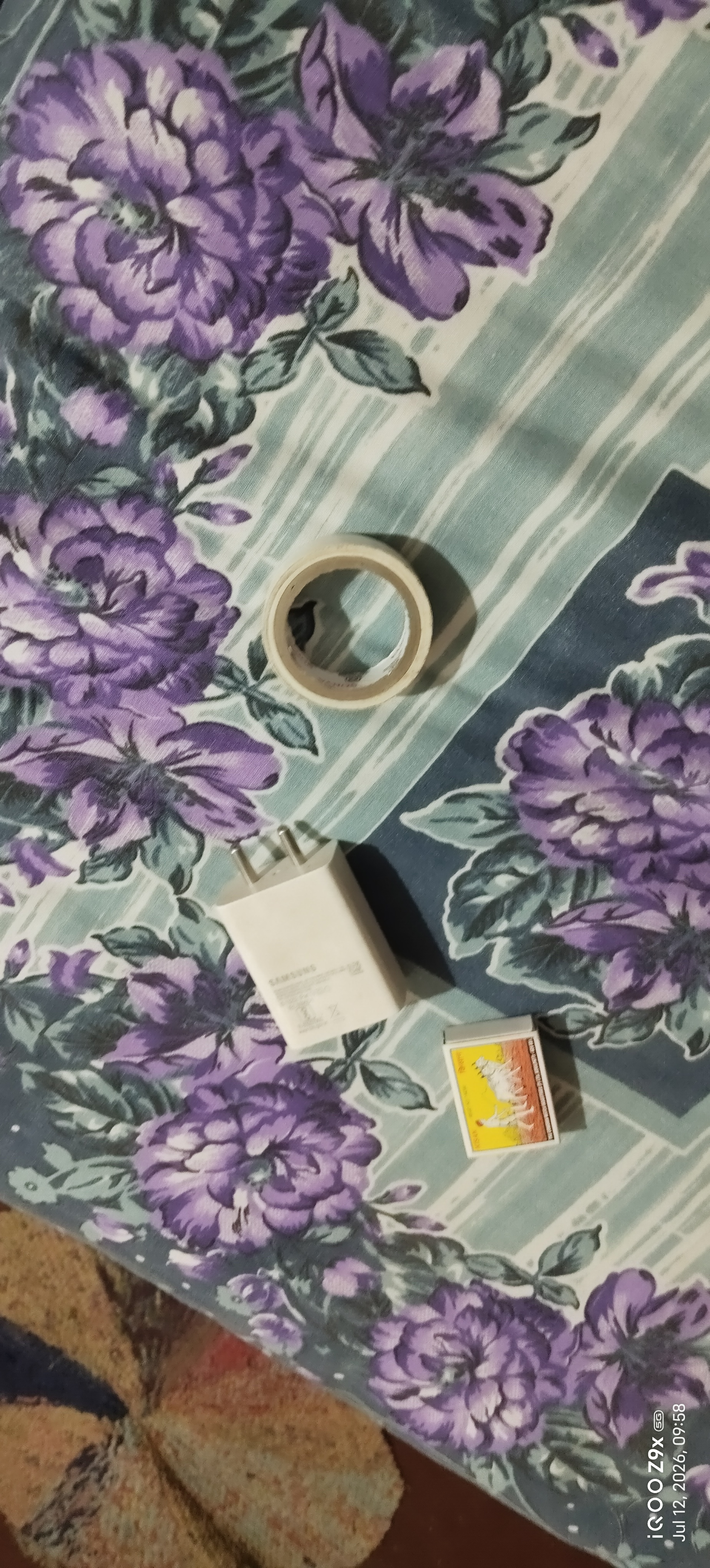charger: (200, 809, 423, 1057)
matchbox: (432, 992, 584, 1171)
tape_roll: (252, 524, 460, 726)
